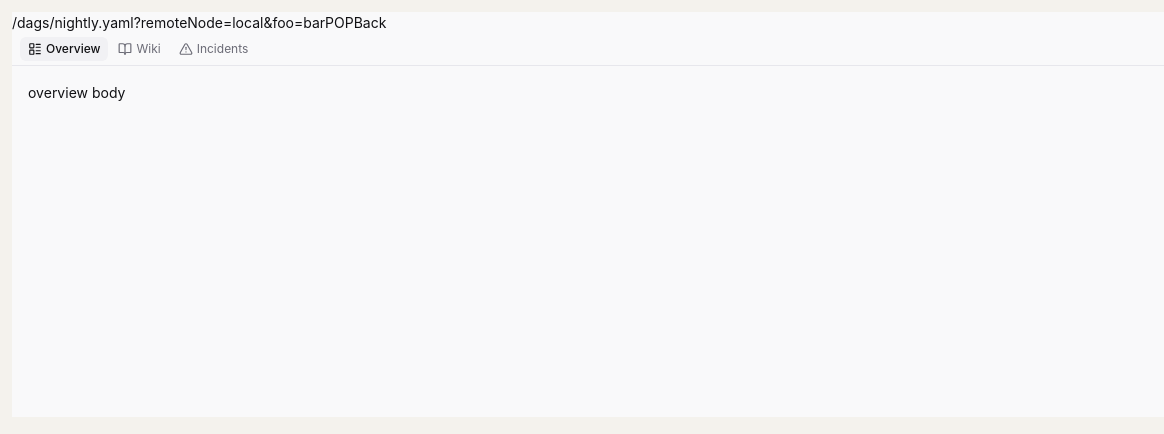
Test: WorkflowTabsPanel › puts the tab in the URL with replace and keeps the query
This screenshot has width=1164, height=434.
Click the tab "Wiki": (140, 49) [110, 37, 169, 61]
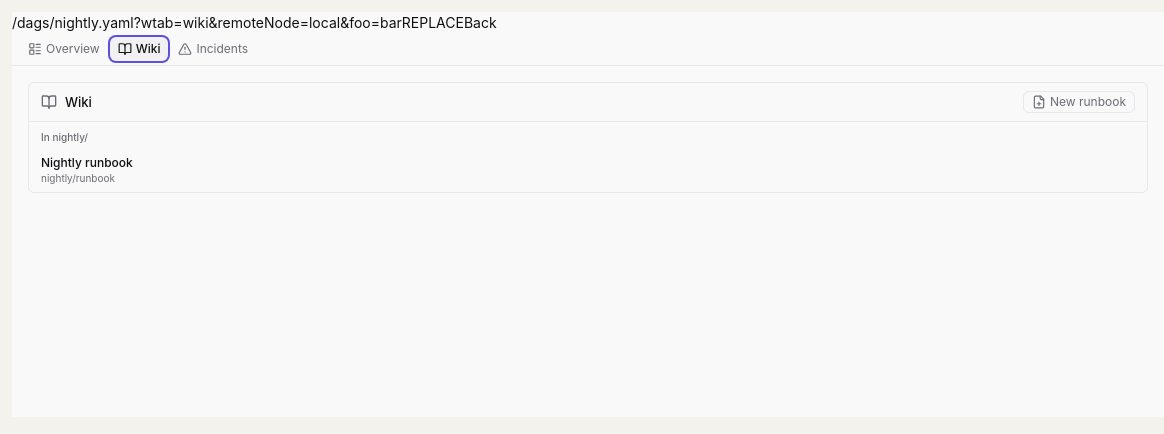
Now the text with test id "location" reads "/dags/nightly.yaml?wtab=wiki&remoteNode=local&foo=bar", box [12, 14, 402, 31]
Now the text with test id "navigation" reads "REPLACE", box [402, 14, 464, 31]
Click the tab "Overview": (64, 49) [20, 37, 108, 61]
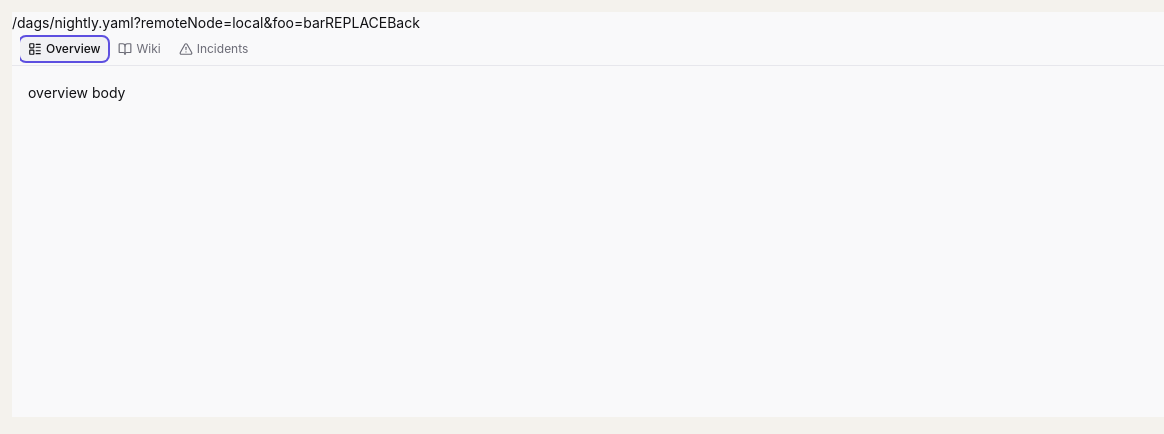
Now the text with test id "location" reads "/dags/nightly.yaml?remoteNode=local&foo=bar", box [12, 14, 325, 31]
